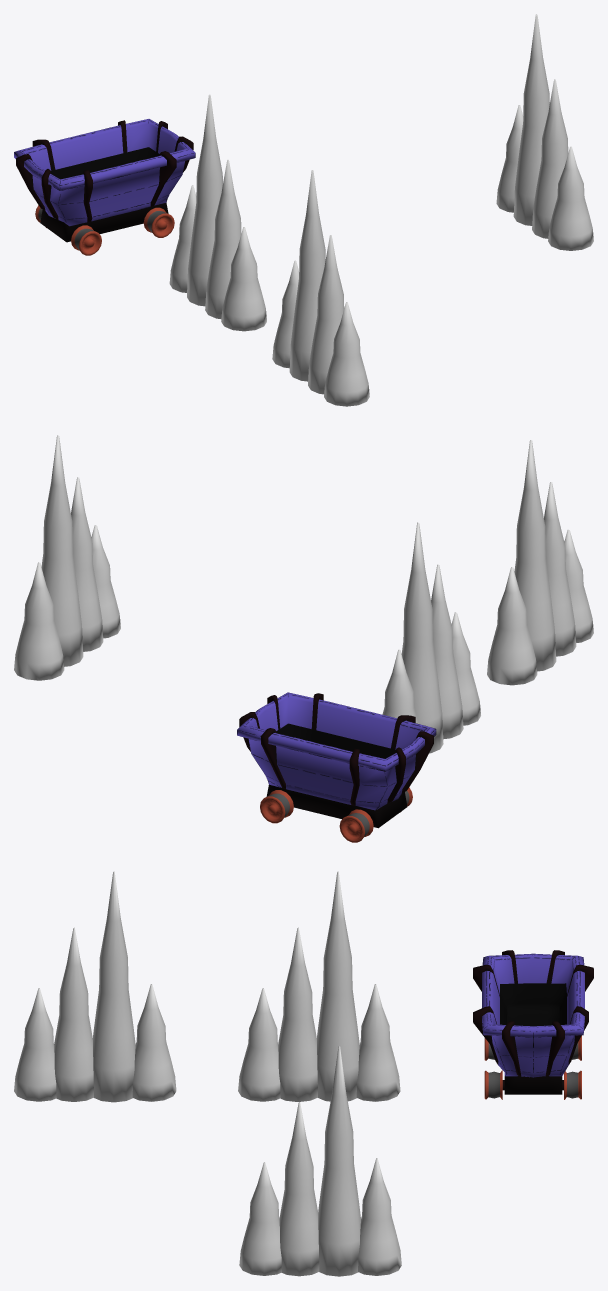
Rendered from Parte 2 obstáculos 1.fbx.
The picture shows the model from 3 angles, top to bottom: view 1: azimuth 30°, elevation 25°; view 2: azimuth 150°, elevation 25°; view 3: azimuth 270°, elevation 25°; orthographic projection. The views are drawn at different scales.
Visible parts, largest first — view 1: ESTALACTITA BUENA.003, ESTALACTITA BUENA.002, ESTALACTITA BUENA.001, MineCart.002, MineCart.003, MineCart.001, MineCart, MineCart.004; view 2: ESTALACTITA BUENA.001, ESTALACTITA BUENA.003, MineCart.002, ESTALACTITA BUENA.002, MineCart.003, MineCart.001, MineCart, MineCart.004; view 3: ESTALACTITA BUENA.001, ESTALACTITA BUENA.003, ESTALACTITA BUENA.002, MineCart.002, MineCart.004, MineCart.003, MineCart.001, MineCart.
Part boxes in pixels (bbox=[...]): ESTALACTITA BUENA.003: bbox=[496, 14, 593, 250]; ESTALACTITA BUENA.002: bbox=[169, 94, 266, 331]; ESTALACTITA BUENA.001: bbox=[272, 170, 369, 406]; MineCart.002: bbox=[14, 119, 195, 226]; MineCart.003: bbox=[16, 120, 193, 222]; MineCart.001: bbox=[35, 205, 174, 255]; MineCart: bbox=[40, 202, 168, 242]; MineCart.004: bbox=[50, 147, 159, 179]; ESTALACTITA BUENA.001: bbox=[487, 440, 593, 685]; ESTALACTITA BUENA.003: bbox=[14, 435, 120, 680]; MineCart.002: bbox=[237, 692, 436, 810]; ESTALACTITA BUENA.002: bbox=[382, 522, 480, 753]; MineCart.003: bbox=[239, 693, 433, 805]; MineCart.001: bbox=[260, 787, 412, 842]; MineCart: bbox=[266, 784, 407, 828]; MineCart.004: bbox=[276, 723, 395, 758]; ESTALACTITA BUENA.001: bbox=[14, 871, 176, 1102]; ESTALACTITA BUENA.003: bbox=[239, 1045, 401, 1276]; ESTALACTITA BUENA.002: bbox=[238, 871, 400, 1101]; MineCart.002: bbox=[482, 953, 584, 1077]; MineCart.004: bbox=[500, 983, 566, 1026]; MineCart.003: bbox=[473, 950, 593, 1076]; MineCart.001: bbox=[484, 1035, 581, 1099]; MineCart: bbox=[502, 1076, 563, 1094].
Size of the model in its own units: 1028 by 454 by 1083.
